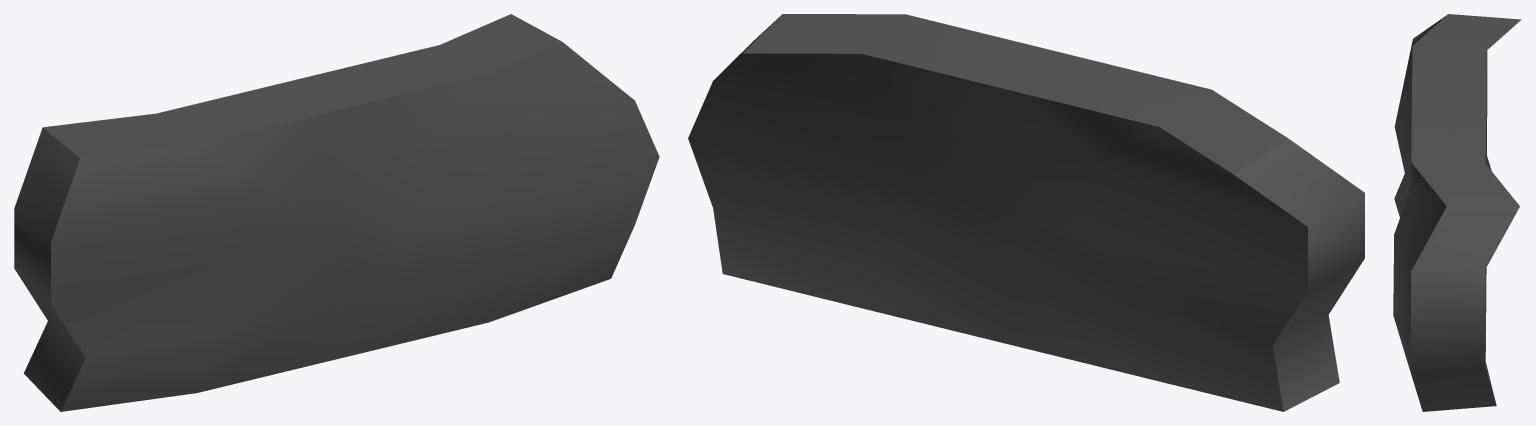
File: Mesh_House_Ruins_Stone_TL.fbx
The picture shows the model from 3 angles, left to right: view 1: azimuth 30°, elevation 25°; view 2: azimuth 150°, elevation 25°; view 3: azimuth 270°, elevation 25°; orthographic projection. The views are drawn at different scales.
Visible parts, largest first — view 1: polySurface6; view 2: polySurface6; view 3: polySurface6.
Part boxes in pixels (<box>): polySurface6: <box>14,14,659,411</box>; polySurface6: <box>688,14,1364,411</box>; polySurface6: <box>1393,14,1521,411</box>.
Bounding box in the file's own units: 625 × 245 × 140.
